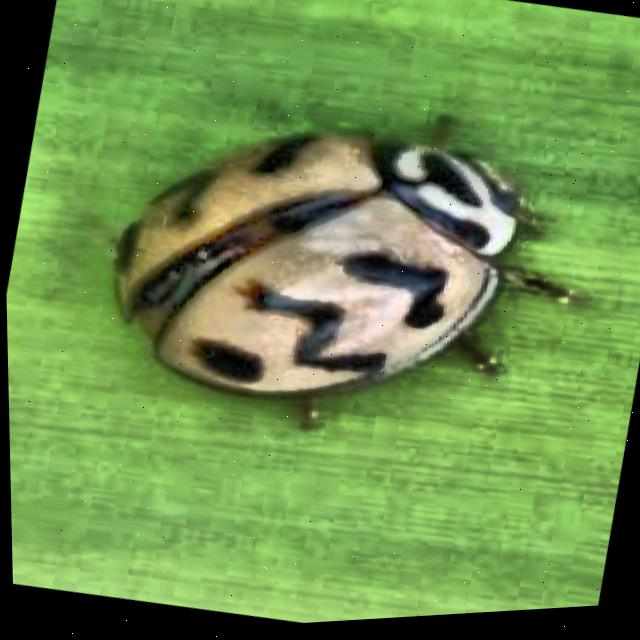Asian-Lady-beetle: (21, 0, 640, 524)
